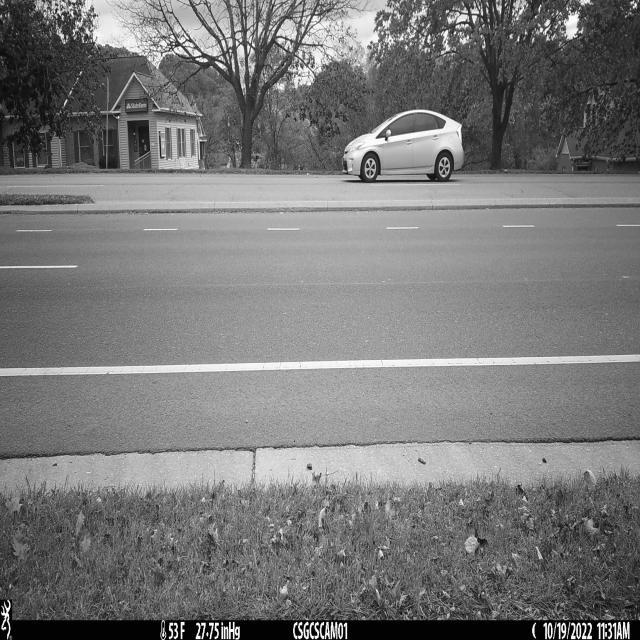Hatchback: (344, 109, 465, 183)
